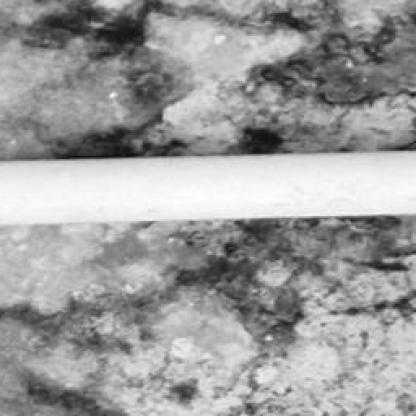PVC: (0, 150, 414, 232)
